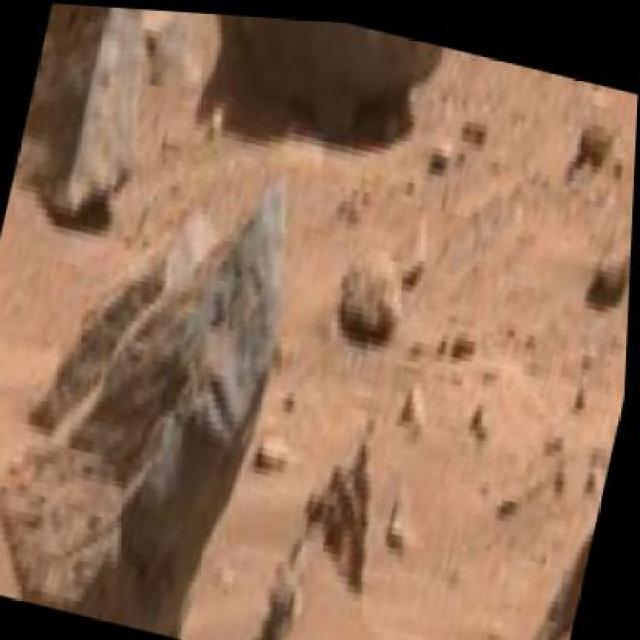rock: (0, 103, 323, 639), (6, 1, 189, 247), (180, 10, 449, 135), (459, 474, 603, 638), (332, 228, 421, 342), (0, 383, 38, 589)
